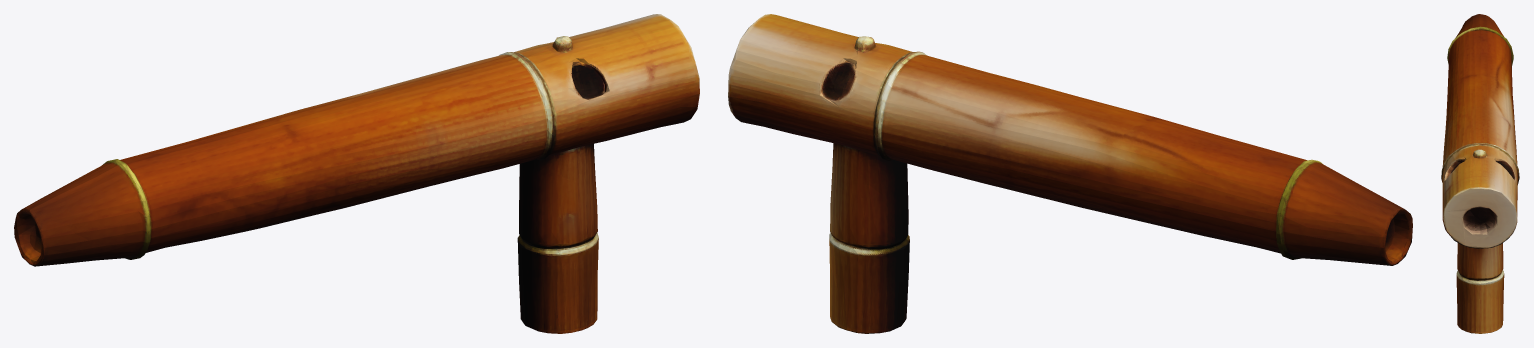
The model's file is wooden-bamboo-flute-vintage.jpeg.glb.
3 renders of one model, left to right at view 1: azimuth 30°, elevation 25°; view 2: azimuth 150°, elevation 25°; view 3: azimuth 270°, elevation 25°, orthographic. The views are drawn at different scales.
Parts seen in each view (by area): view 1: world; view 2: world; view 3: world.
Boxes of the visible parts, bbox=[...] form: world: bbox=[14, 14, 699, 333]; world: bbox=[728, 14, 1412, 333]; world: bbox=[1441, 14, 1519, 333].
Bounding box in the file's own units: 1 × 0.4175 × 0.1692.
Materials: 1 (1 with a texture image).
